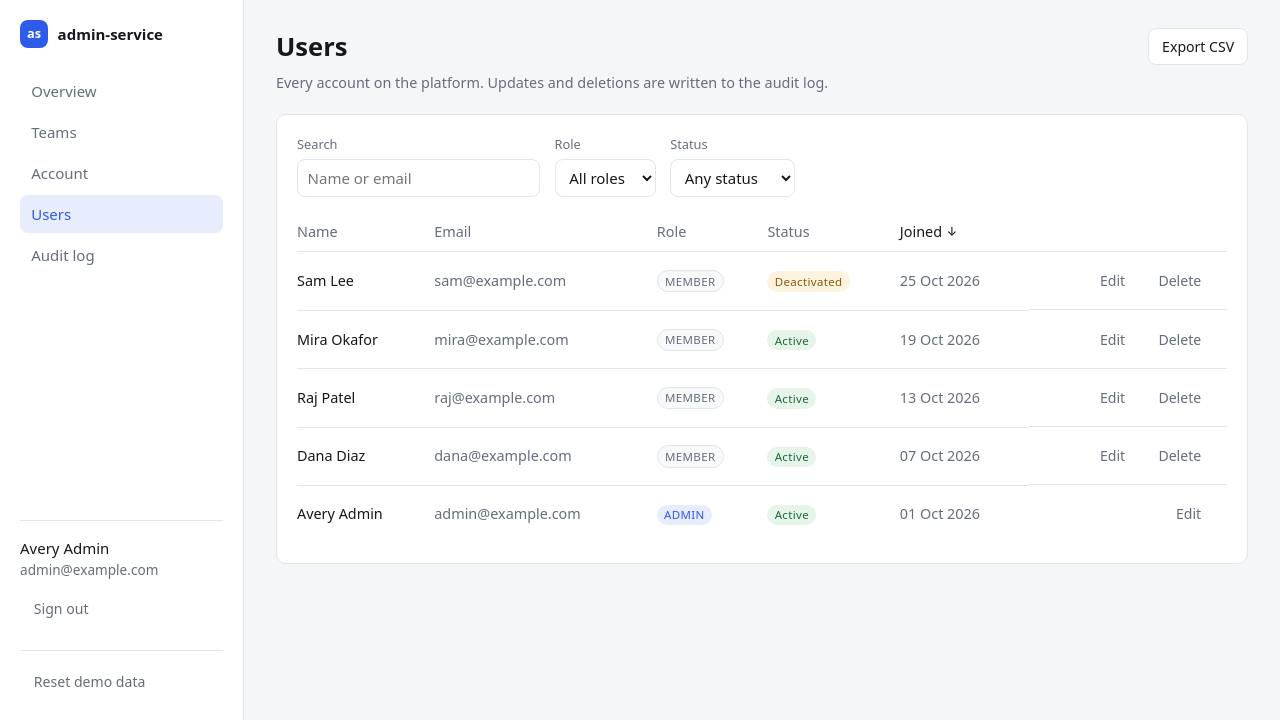
Test: the users screen › will not let an admin demote themselves
The image size is (1280, 720).
Click the button "Edit" in the row of "01 Oct 2026": point(1189, 514) [1162,496,1215,532]
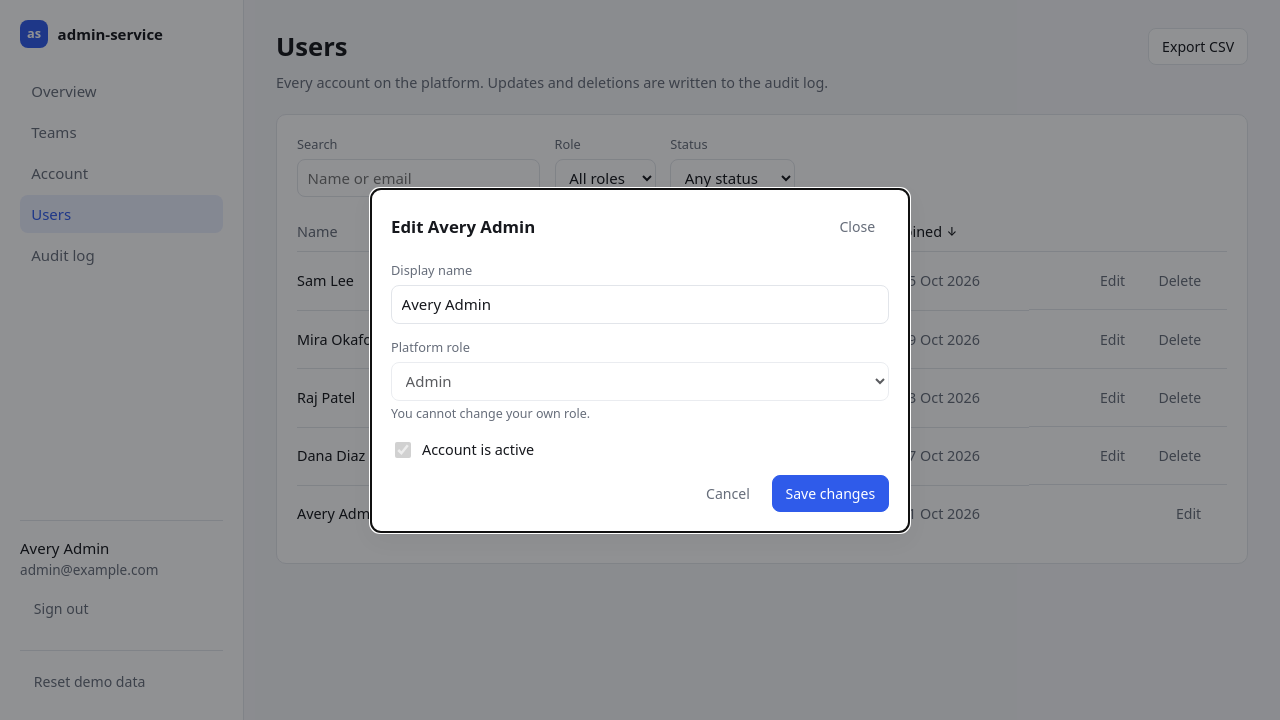
Result: the dropdown labelled "Platform role" is disabled at [391,362,889,401]
Result: the text "You cannot change your own role." is shown at [391,406,590,422]
